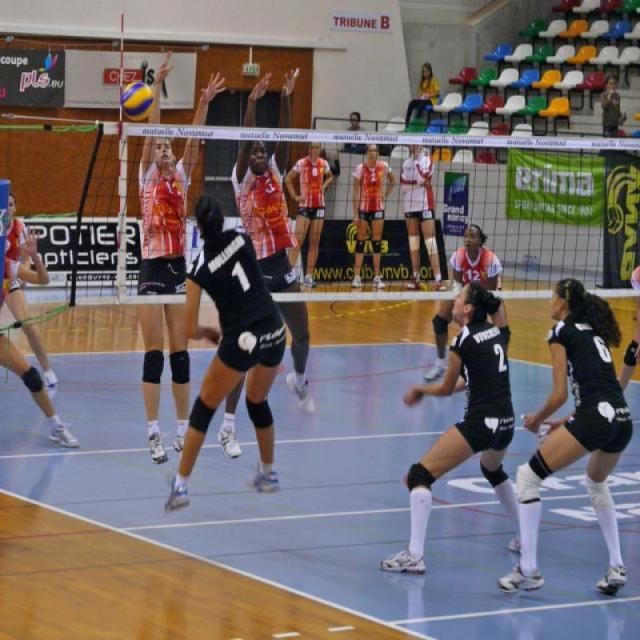volleyball: (118, 80, 154, 122)
